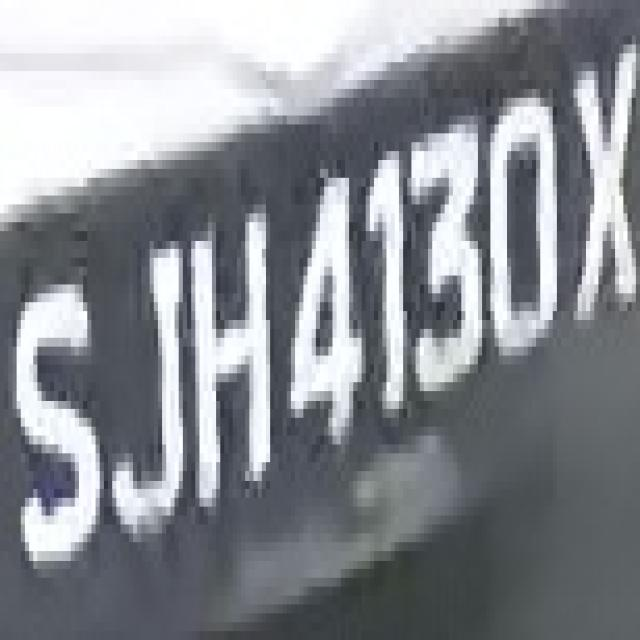0: (486, 80, 570, 391)
1: (378, 115, 412, 489)
3: (407, 107, 495, 409)
4: (274, 133, 370, 480)
H: (179, 169, 278, 515)
J: (100, 204, 195, 569)
S: (8, 231, 104, 596)
X: (557, 0, 636, 364)
